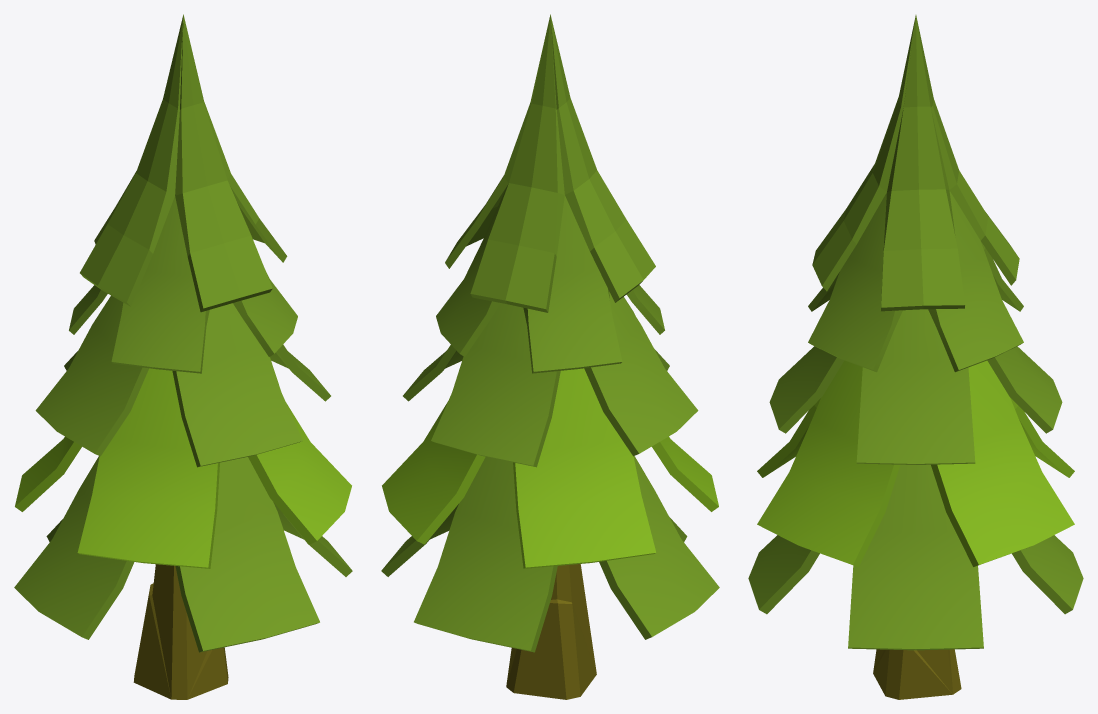
The model's file is model_polytope_dock_tree03.fbx.
The picture shows the model from 3 angles, left to right: view 1: azimuth 30°, elevation 25°; view 2: azimuth 150°, elevation 25°; view 3: azimuth 270°, elevation 25°; orthographic projection.
Parts seen in each view (by area): view 1: model_polytope_tree03; view 2: model_polytope_tree03; view 3: model_polytope_tree03.
Part boxes in pixels (x1,y1,x2,y2): model_polytope_tree03: (14,14,352,699); model_polytope_tree03: (381,14,719,699); model_polytope_tree03: (748,15,1083,699).
Bounding box in the file's own units: 612 × 1345 × 612.
1 material, 1 textured.
